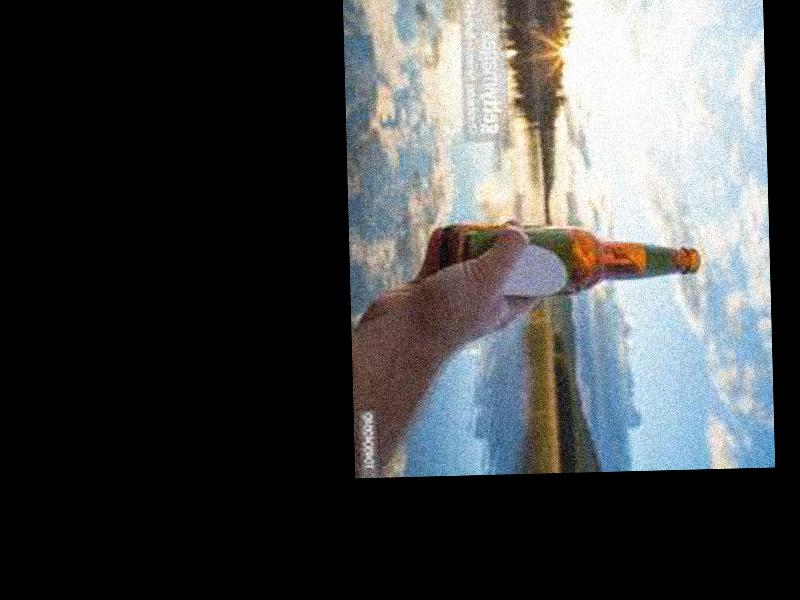Beer: (442, 216, 701, 300)
